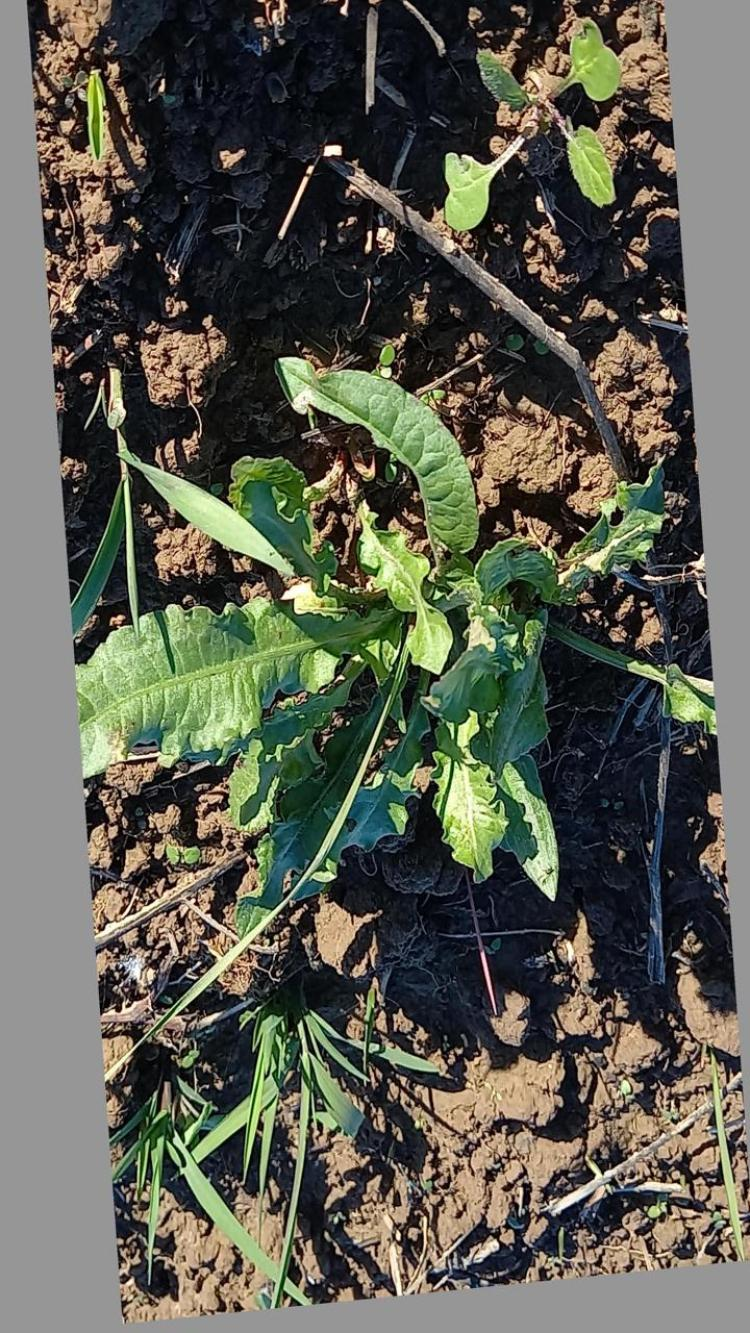zhavel: (66, 346, 716, 908)
